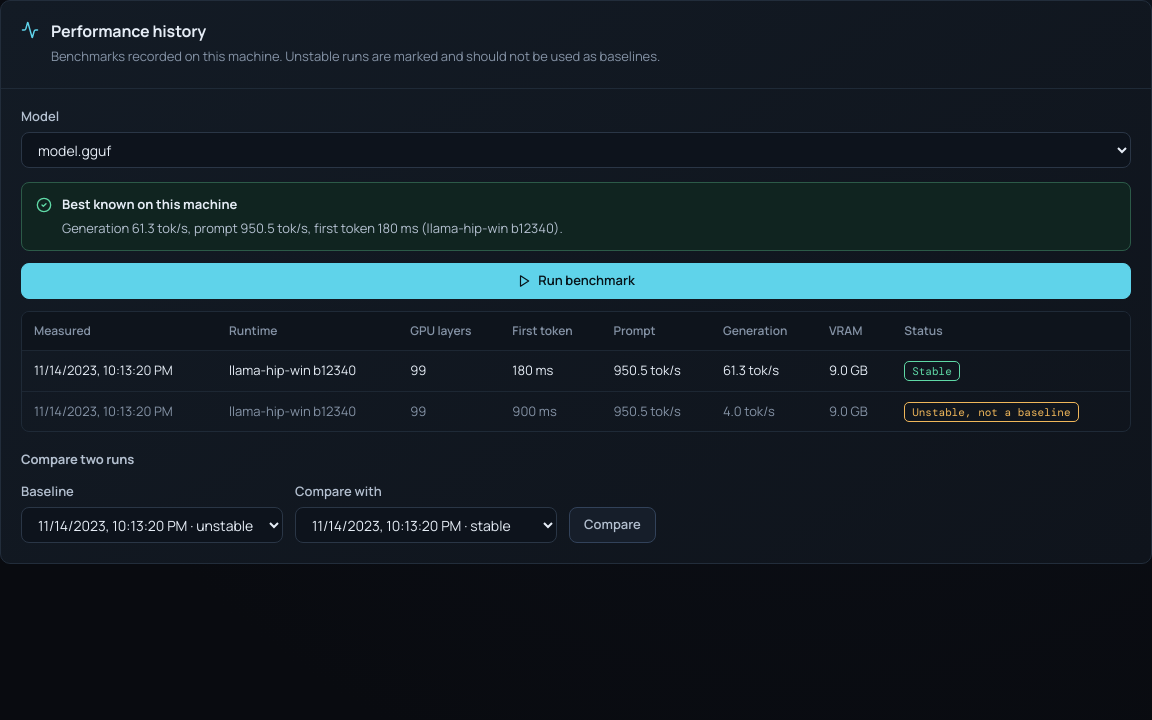
Scenario: PerformancePanel › runs the benchmark on the loaded model and shows the refusal when none is ready
Click the button "Run benchmark" at (576, 281), box [21, 263, 1131, 299]
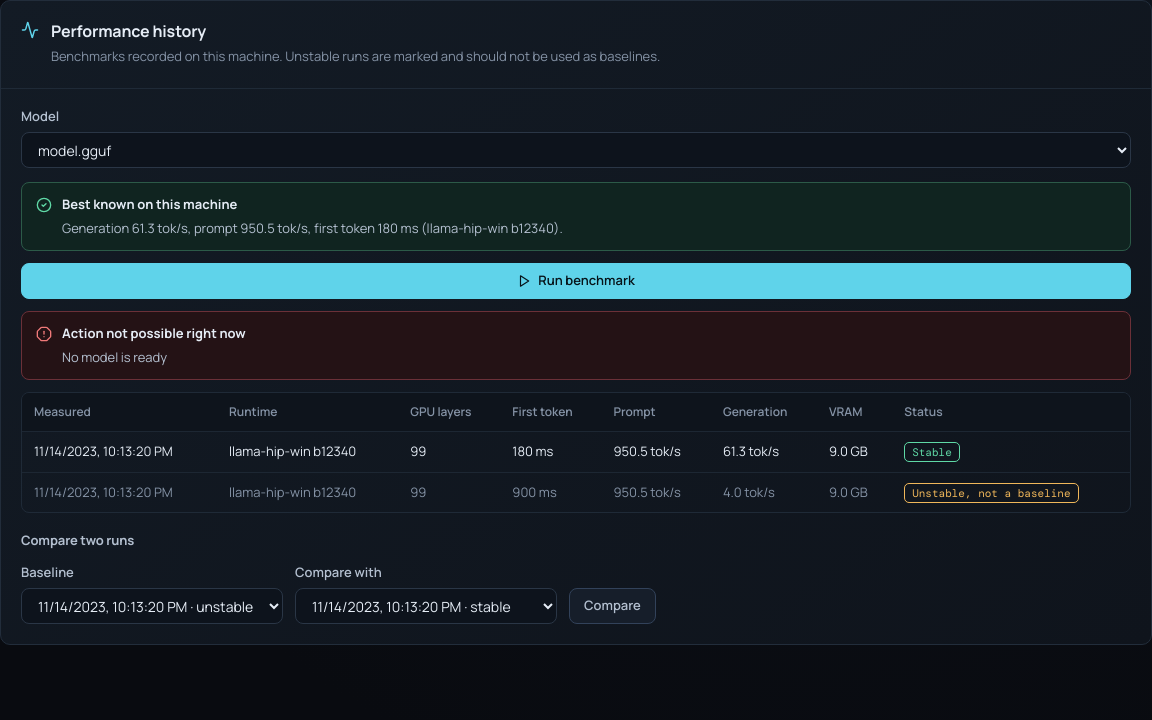
Check: the text "No model is ready" is shown, box [62, 348, 167, 366]
